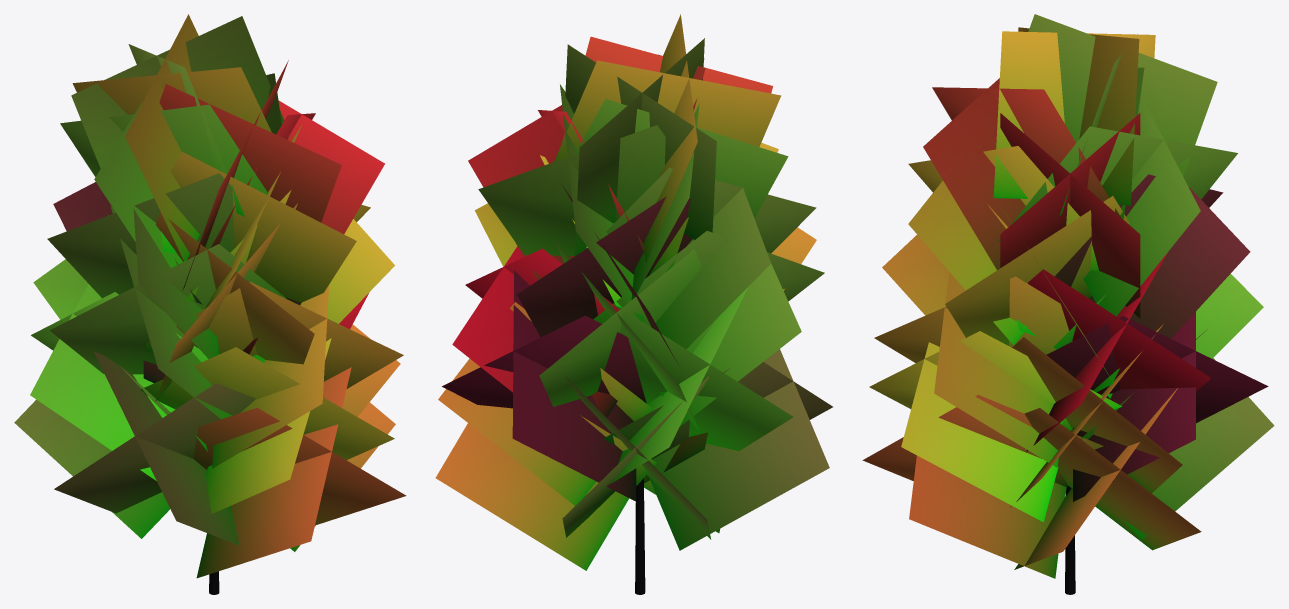
File: Tree_3.fbx
The picture shows the model from 3 angles, left to right: view 1: azimuth 30°, elevation 25°; view 2: azimuth 150°, elevation 25°; view 3: azimuth 270°, elevation 25°; orthographic projection.
Parts seen in each view (by area): view 1: Tree_3; view 2: Tree_3; view 3: Tree_3.
Boxes of the visible parts, x1,y1,x2,y2 form: Tree_3: [14, 14, 406, 594]; Tree_3: [435, 14, 832, 594]; Tree_3: [862, 14, 1274, 594].
Bounding box in the file's own units: 424 × 633 × 424.
